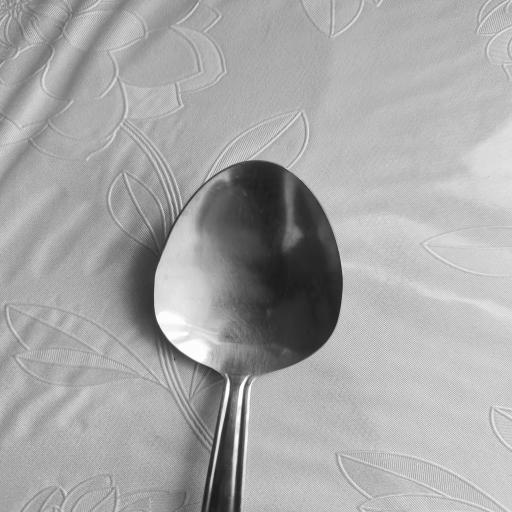spoon: (156, 160, 338, 512)
